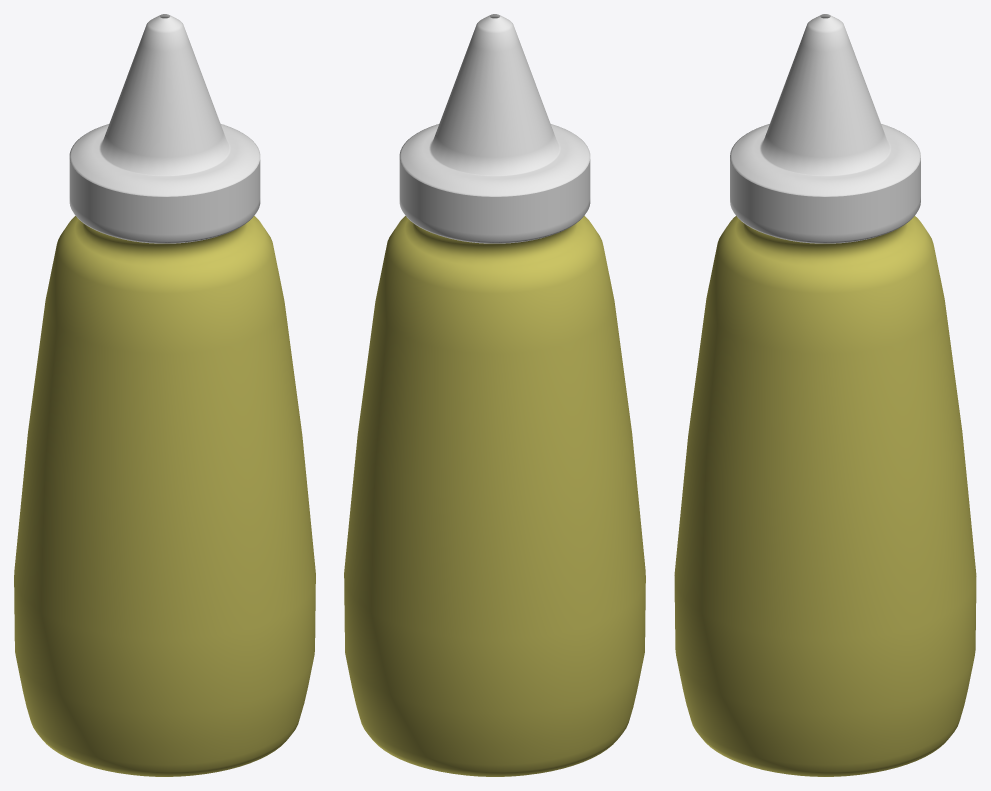
Rendered from mustard.fbx.
The picture shows the model from 3 angles, left to right: view 1: azimuth 30°, elevation 25°; view 2: azimuth 150°, elevation 25°; view 3: azimuth 270°, elevation 25°; orthographic projection.
Parts seen in each view (by area): view 1: Mustard; view 2: Mustard; view 3: Mustard.
Part boxes in pixels (x1,y1,x2,y2): Mustard: [14, 14, 315, 776]; Mustard: [344, 14, 645, 776]; Mustard: [674, 14, 976, 776].
Bounding box in the file's own units: 93.88 × 247 × 93.88.
